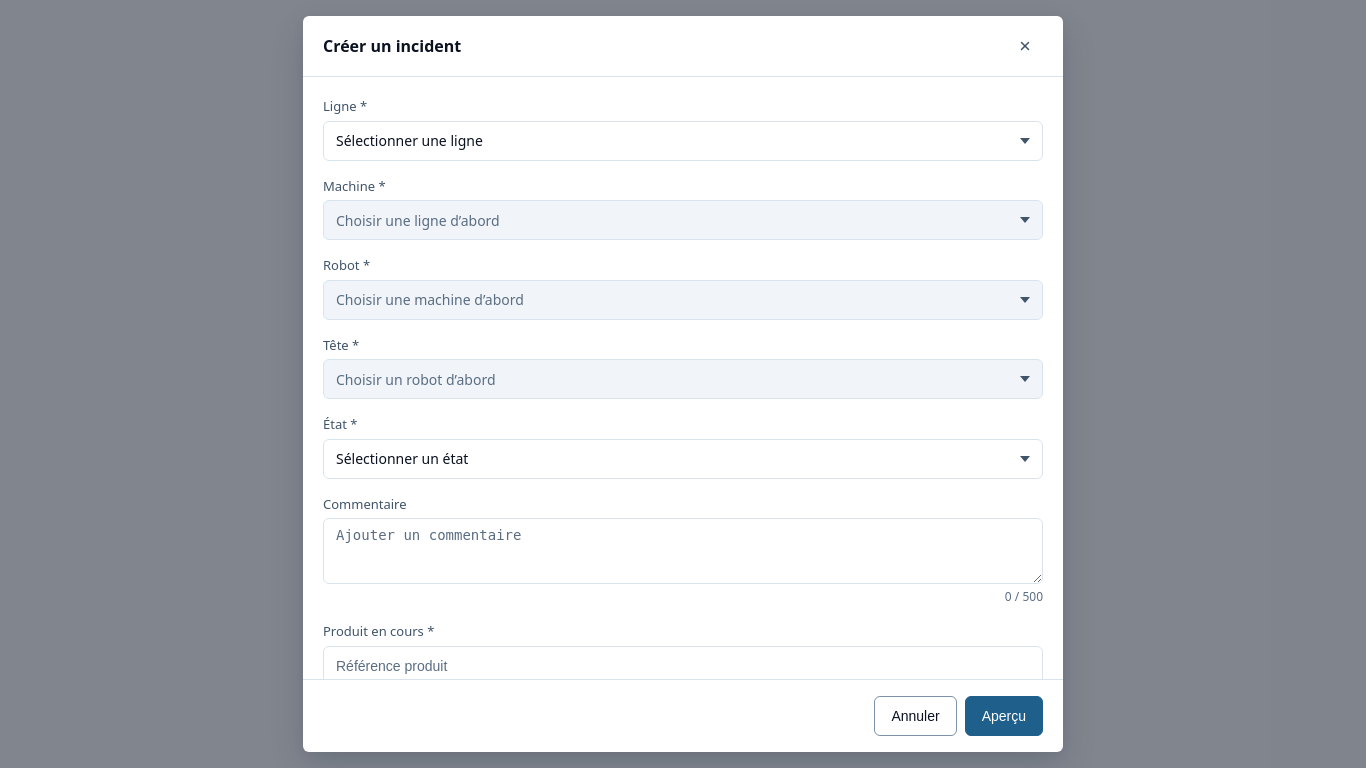
Test: CreateIncidentModal – rendu › affiche L01 dans la liste des lignes
Click the dropdown labelled "ligne".
click(409, 140)  # box x1=323 y1=120 x2=1043 y2=160
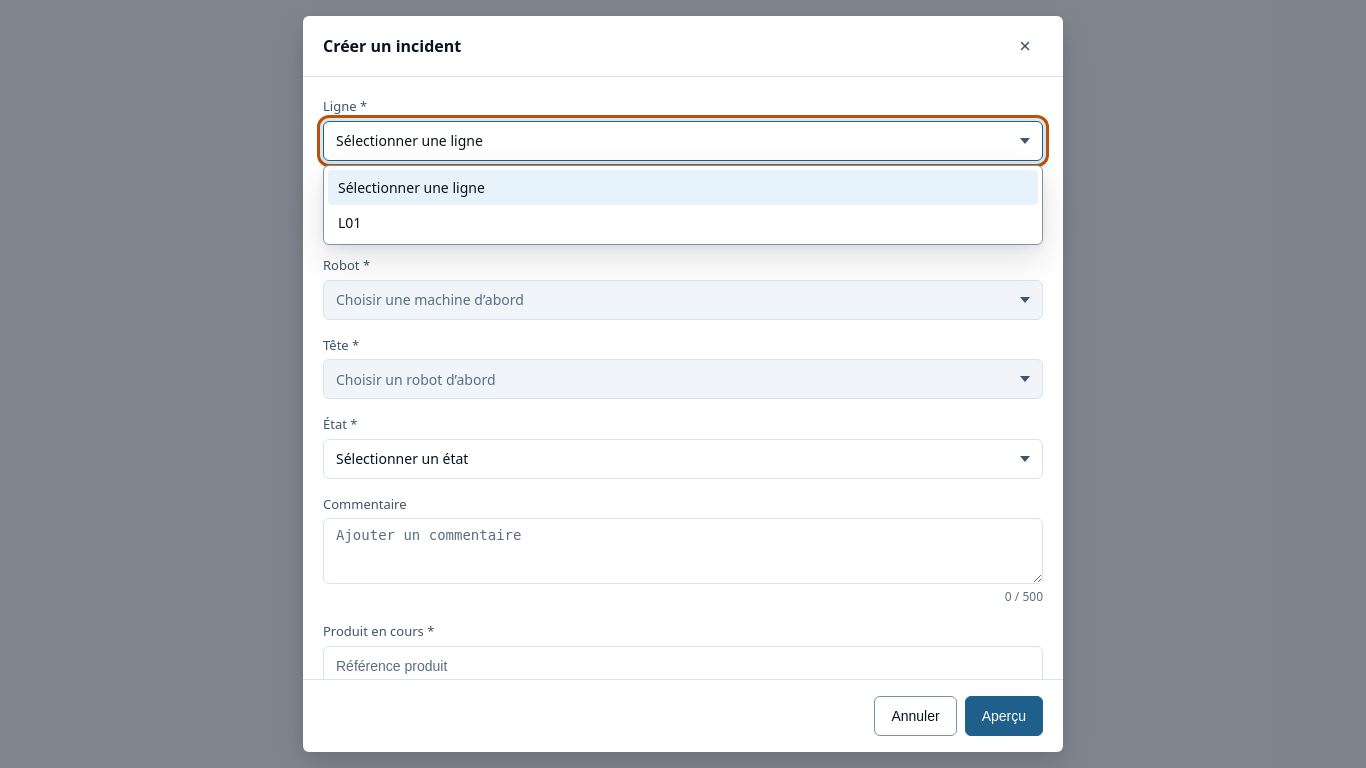
Now the option "L01" is shown, box x1=328 y1=204 x2=1038 y2=240
